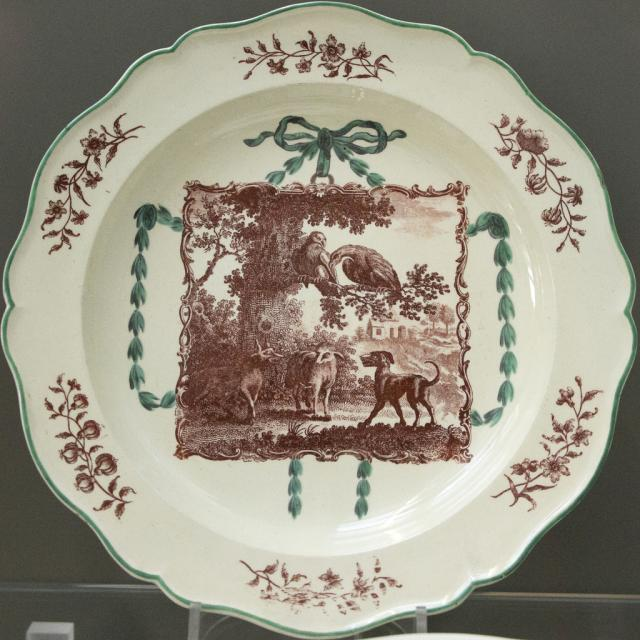non-organic waste: (35, 3, 639, 639)
